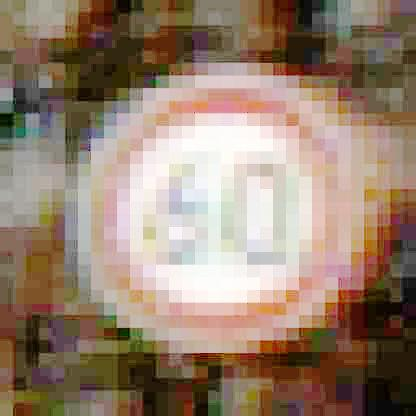Speed Limit -60-: (87, 70, 358, 352)
